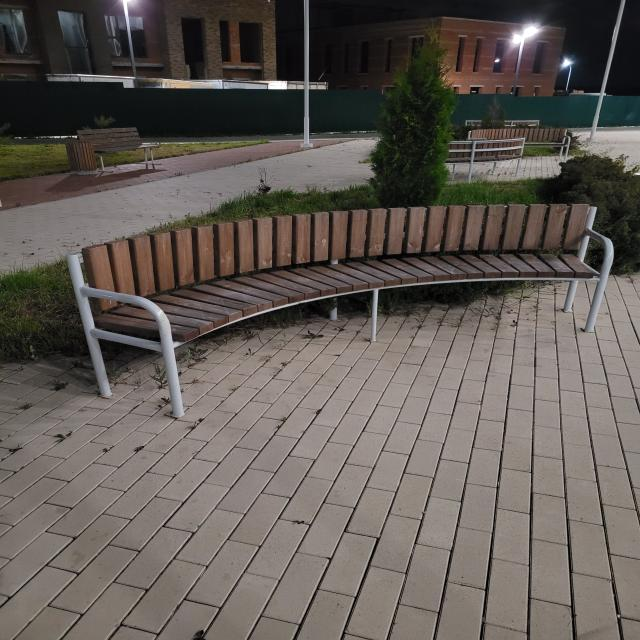Bench: (67, 204, 614, 415)
